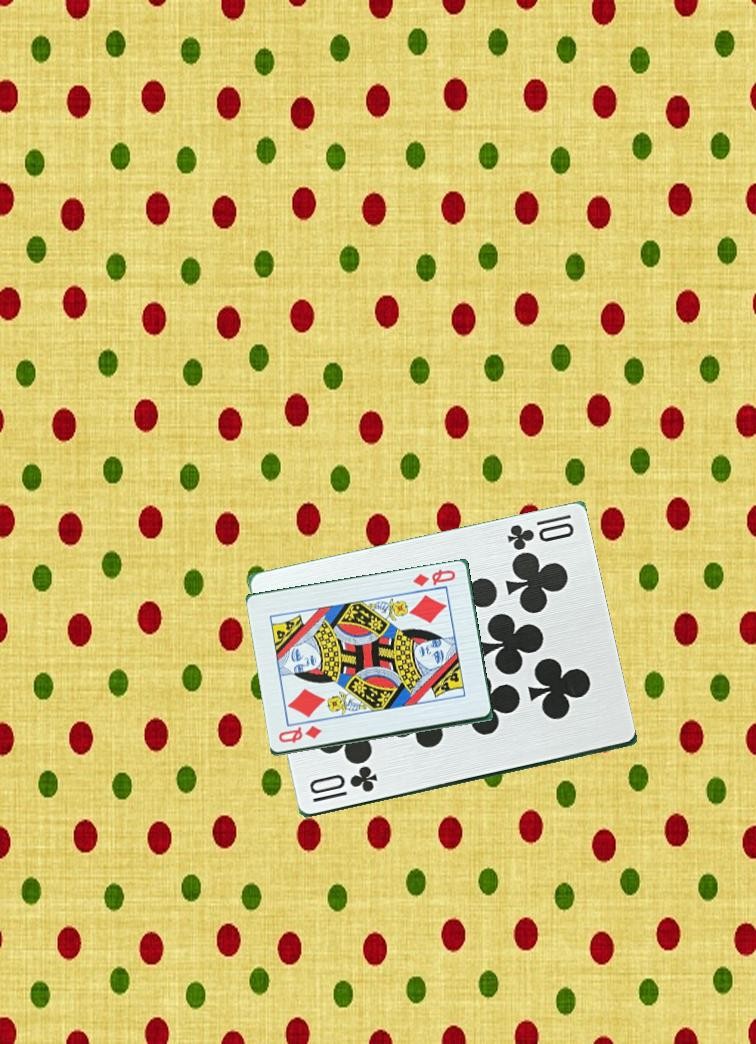qd: (409, 566, 458, 590), (274, 723, 325, 746)
tc: (299, 764, 384, 806), (503, 511, 577, 554)
